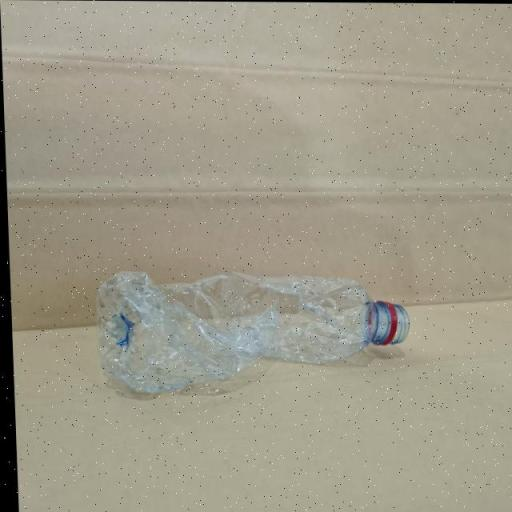plastic: (96, 264, 412, 393)
